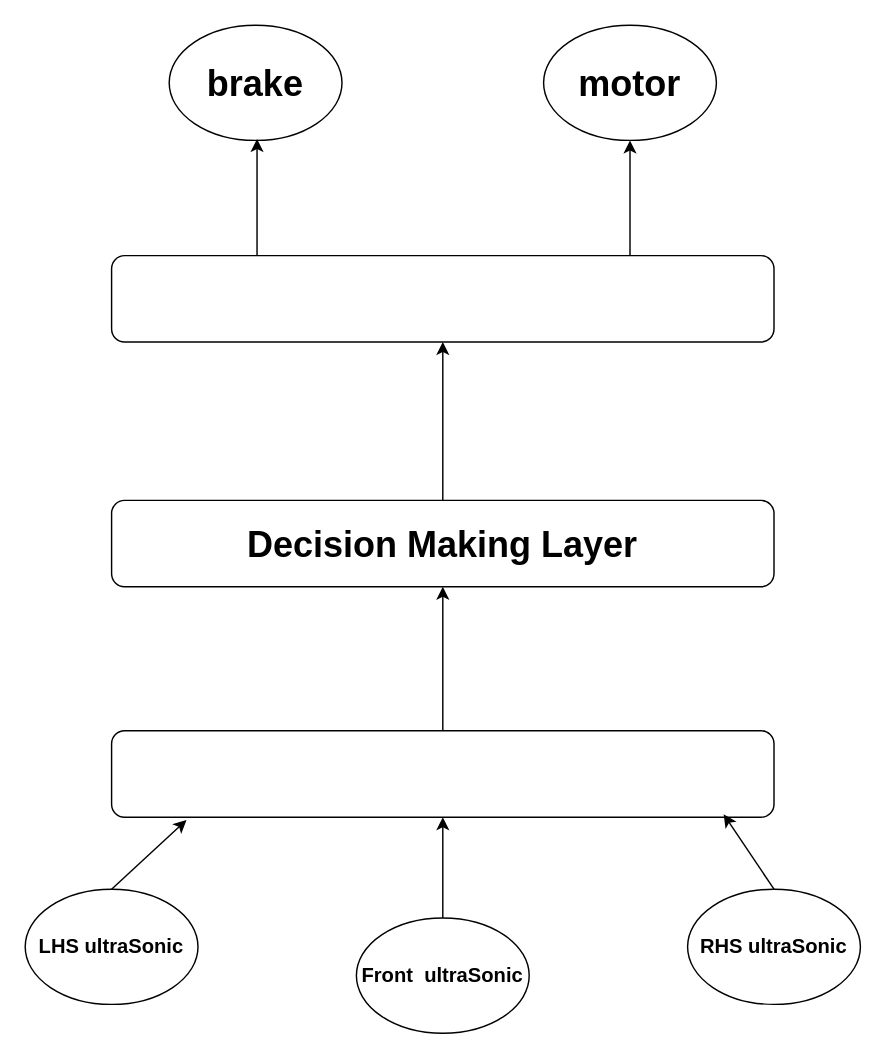
The diagram is 886 pixels wide and 1058 high, and some of its shapes have lost their labels. Each missing label, with the centre of its shape:
"Actuation Layer" belongs at point 442,298.
"Perception Layer" belongs at point 442,773.
